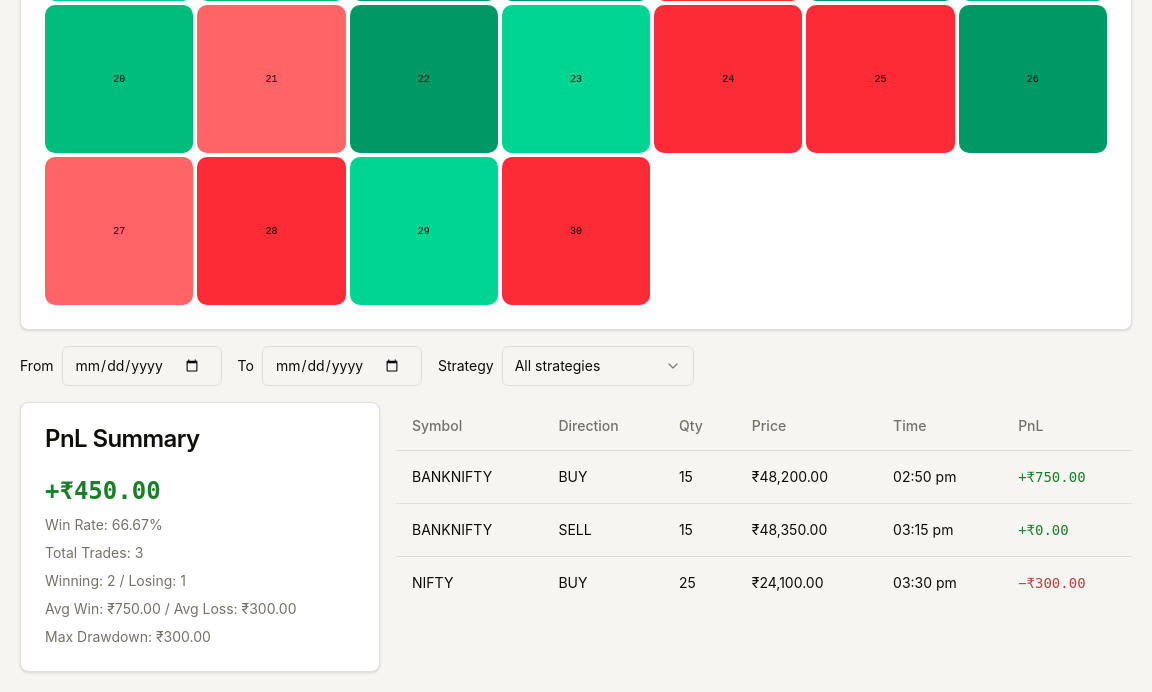
Scenario: PerformancePage › lets the trade log be filtered by real strategy names, not an empty store
(page scrolled)
Click the dropdown named "filter by strategy" at coordinates (598, 366), box x1=502 y1=346 x2=694 y2=386
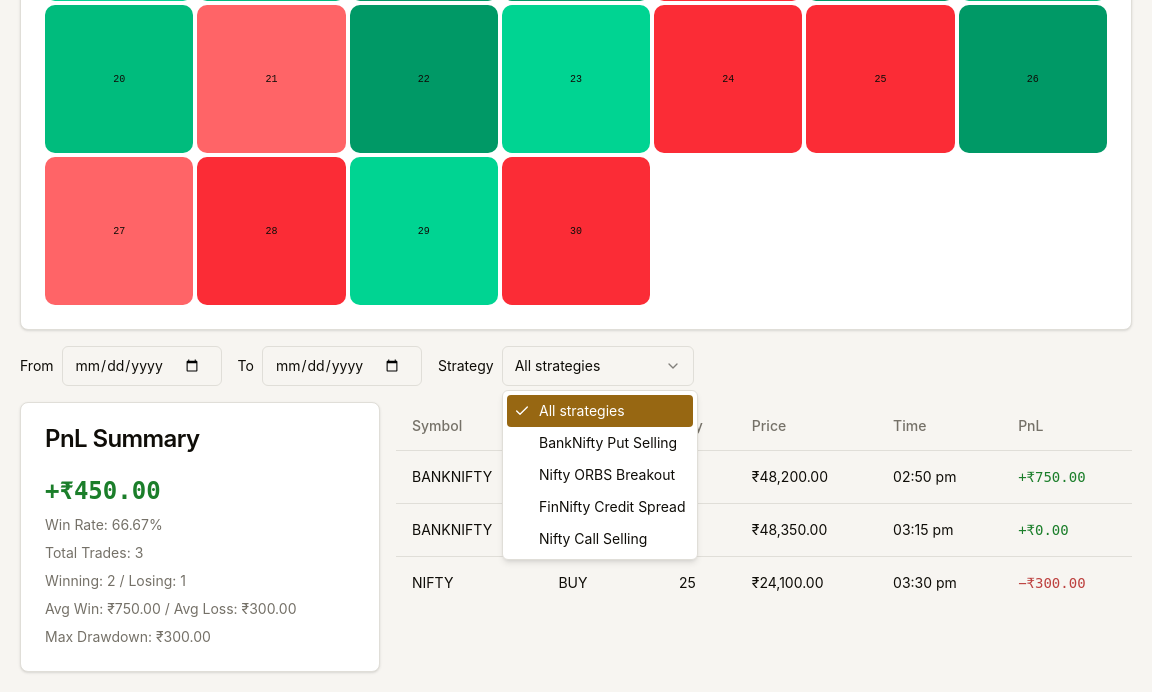
Result: the text "Nifty ORBS Breakout" is shown at x1=539 y1=465 x2=675 y2=485
